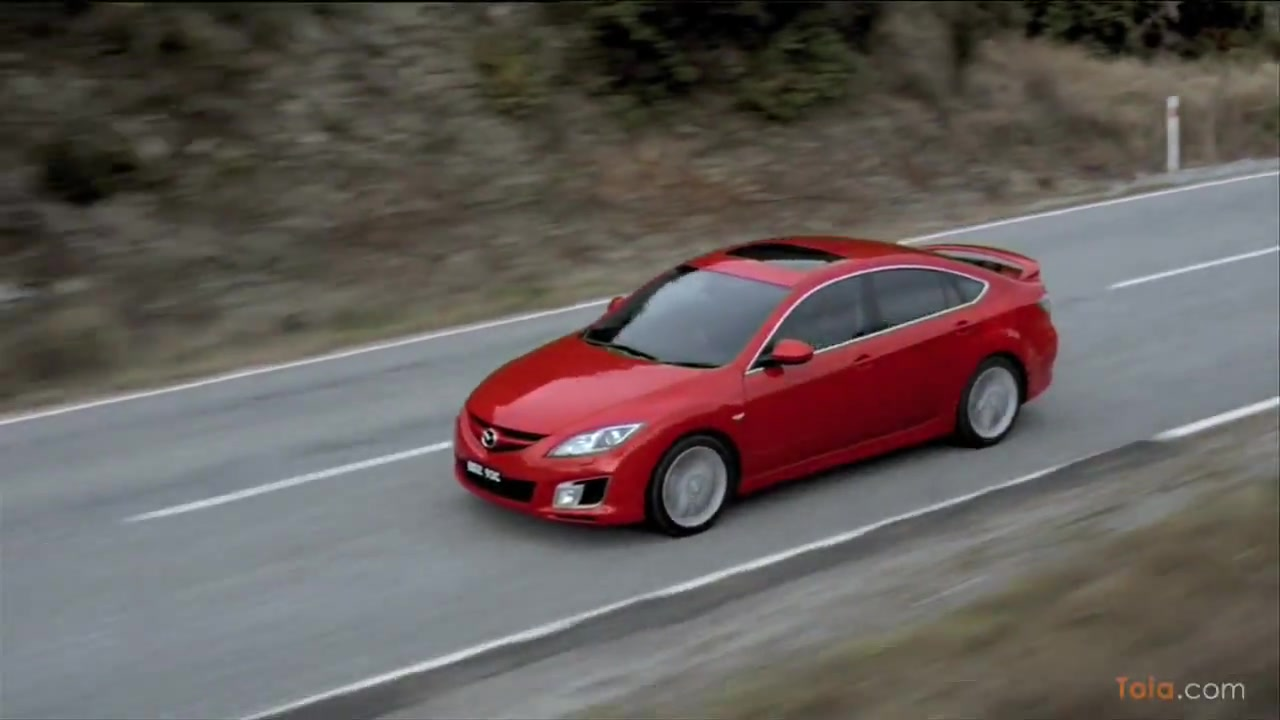car: (452, 230, 1062, 537)
